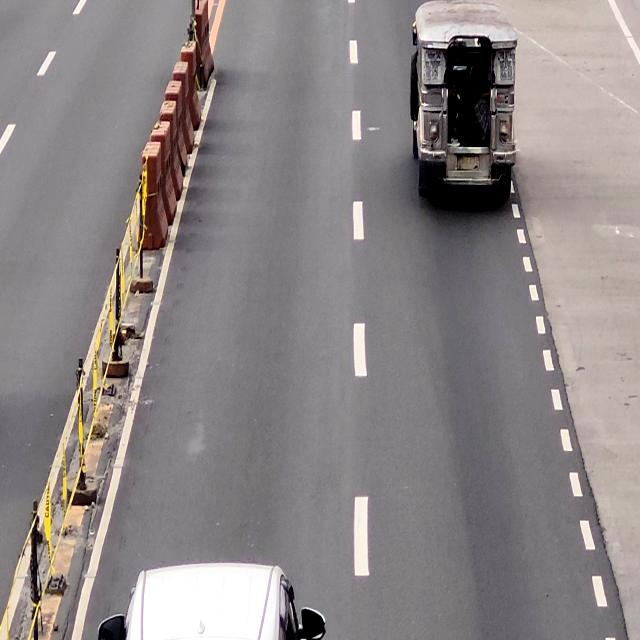Car: (98, 559, 325, 640)
Jeep: (409, 0, 516, 207)
License-Plate: (456, 153, 479, 172)
